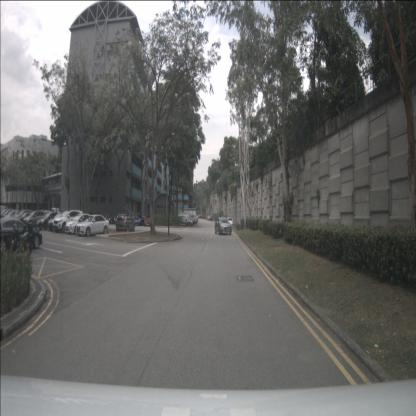human-pedestrian-adult: (194, 214, 198, 227), (196, 214, 199, 223)
vehicle-car: (0, 217, 42, 248), (75, 215, 110, 236), (53, 210, 83, 233), (65, 213, 94, 234), (22, 210, 47, 228), (37, 212, 62, 229), (47, 213, 69, 232), (115, 213, 136, 232), (214, 217, 232, 235), (178, 215, 194, 225), (134, 214, 146, 226), (143, 214, 154, 226), (110, 214, 120, 224), (51, 208, 61, 216), (226, 218, 233, 226)
vehicle-motorcycle: (11, 222, 33, 260)
